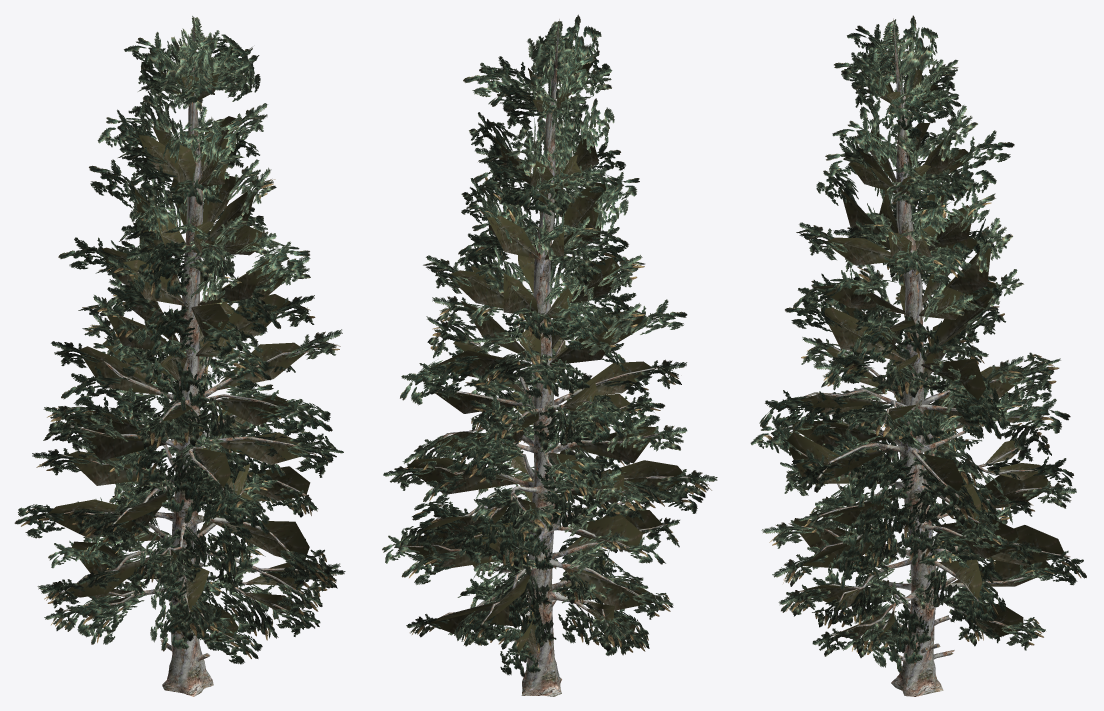
The model's file is BlueSpruce_6.fbx.
The picture shows the model from 3 angles, left to right: view 1: azimuth 30°, elevation 25°; view 2: azimuth 150°, elevation 25°; view 3: azimuth 270°, elevation 25°; orthographic projection. The views are drawn at different scales.
Visible parts, largest first — view 1: BlueSpruce_6; view 2: BlueSpruce_6; view 3: BlueSpruce_6.
Part boxes in pixels (left/top/right/bottom): BlueSpruce_6: left=14, top=16, right=345, bottom=696; BlueSpruce_6: left=382, top=14, right=717, bottom=696; BlueSpruce_6: left=750, top=15, right=1086, bottom=696.
Bounding box in the file's own units: 12.98 × 29.23 × 13.51.
